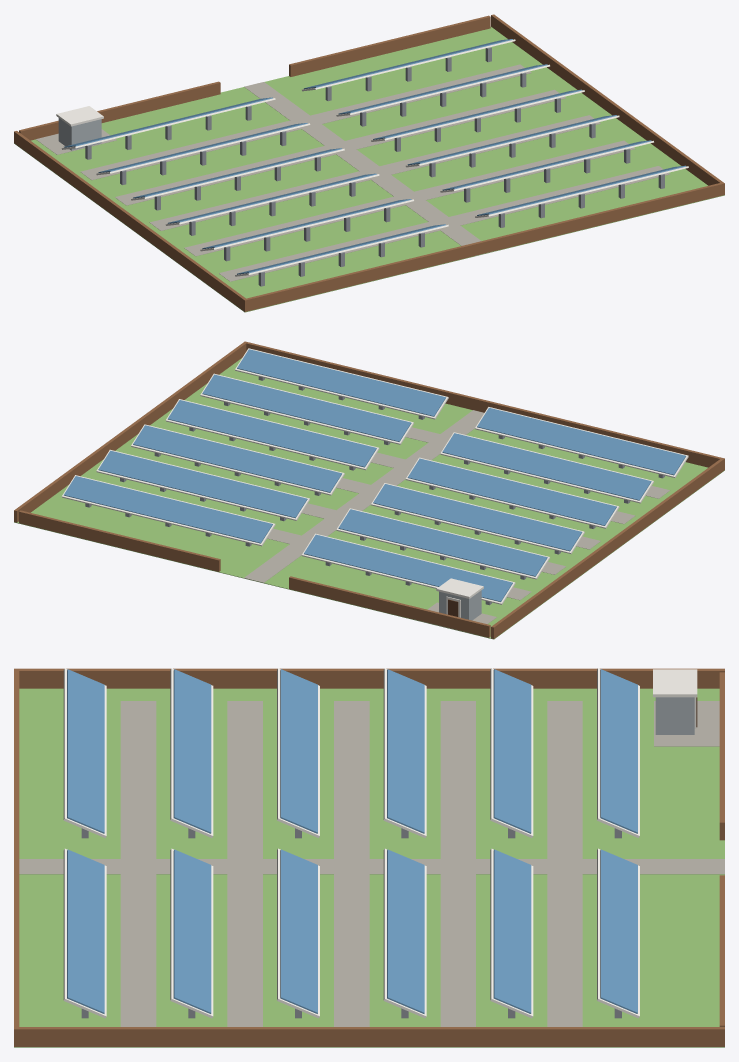
The model's file is solar.glb.
The picture shows the model from 3 angles, top to bottom: view 1: azimuth 30°, elevation 25°; view 2: azimuth 150°, elevation 25°; view 3: azimuth 270°, elevation 25°; orthographic projection. The views are drawn at different scales.
Parts seen in each view (by area): view 1: lawn, gravel_path (×7), fence (×5), panel_glass (×12), panel_frame (×12), inverter_hut, hut_roof; view 2: panel_glass (×12), lawn, fence (×5), panel_frame (×12), gravel_path (×6), inverter_hut, hut_roof; view 3: lawn, panel_glass (×12), gravel_path (×7), fence (×5), panel_frame (×12), inverter_hut, hut_roof.
Boxes of the visible parts, x1,y1,x2,y2 form: lawn: (14,27,724,312); gravel_path (×7): (36,64,670,281); fence (×5): (14,14,724,311); panel_glass (×12): (64,39,685,274); panel_frame (×12): (61,39,688,276); inverter_hut: (58,118,101,150); hut_roof: (56,106,103,126); panel_glass (×12): (64,349,685,601); lawn: (14,358,724,639); fence (×5): (14,341,724,638); panel_frame (×12): (61,348,688,604); gravel_path (×6): (244,410,669,600); inverter_hut: (439,590,481,620); hut_roof: (436,578,483,598); lawn: (14,688,724,1047); panel_glass (×12): (67,669,637,1013); gravel_path (×7): (19,701,724,1026); fence (×5): (14,668,724,1046); panel_frame (×12): (63,668,639,1018); inverter_hut: (655,697,694,734); hut_roof: (653,669,697,697).
Bounding box in the file's own units: 48 × 2.67 × 40.
